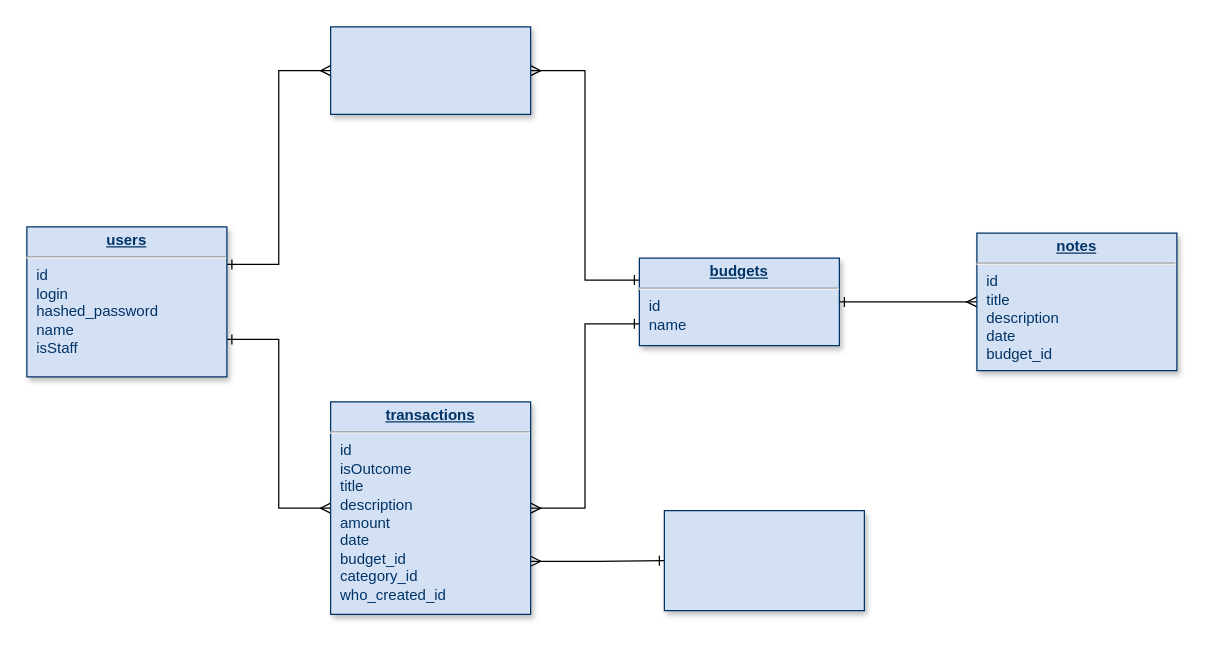
This 1206x645 diagram has some shape labels left out. The shapes that lost their labels are listed below. From the top down, each one's centre as x and y in pixels, then its label:
At point 431,72: "user_has_budget user_id budget_id".
At point 765,561: "categories id name isOutcome".
